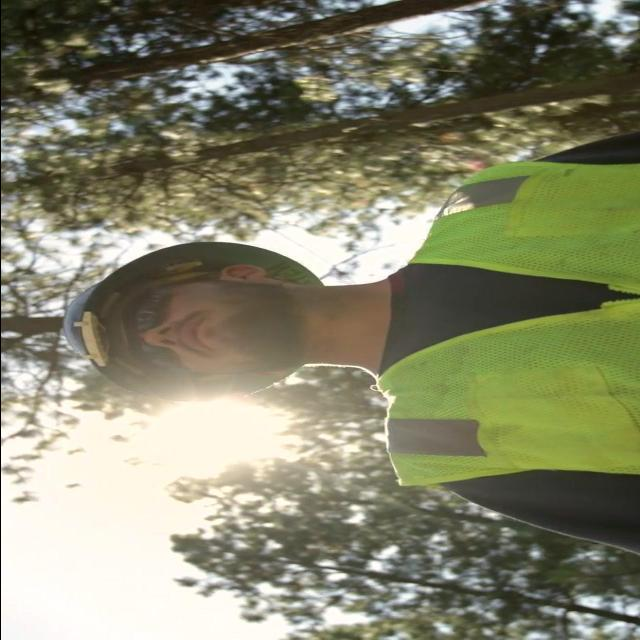helmet: (59, 218, 320, 412)
jacket: (364, 138, 640, 532)
